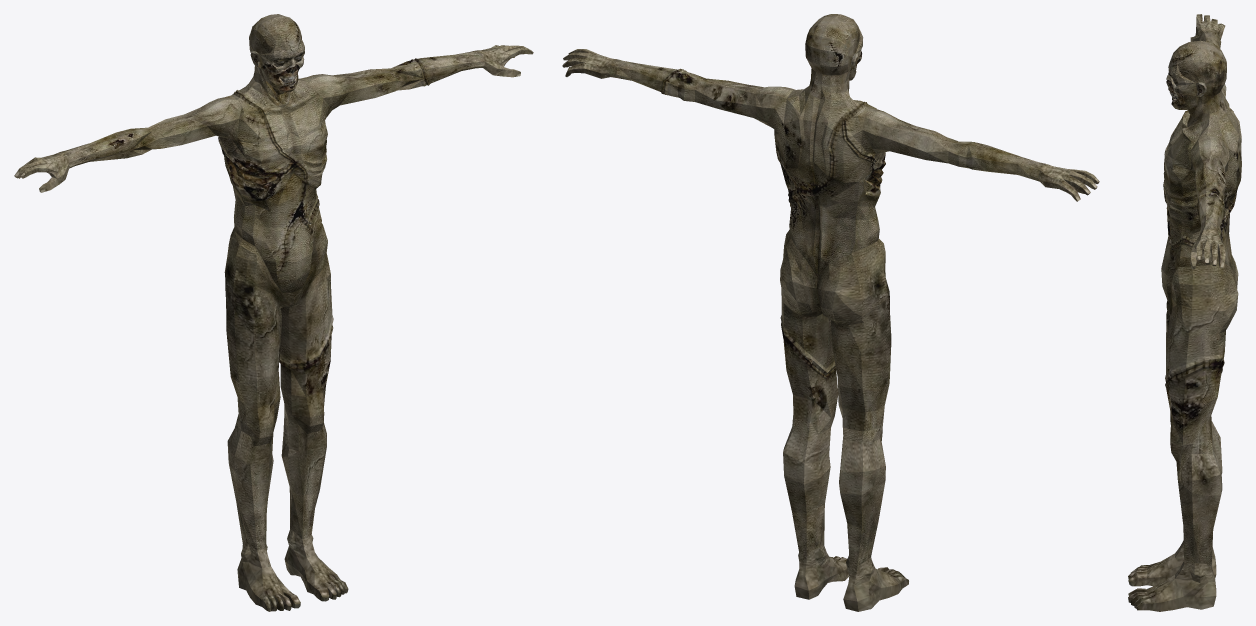
The model's file is Zombie.gltf.
3 views of the same model, side by side, from view 1: azimuth 30°, elevation 25°; view 2: azimuth 150°, elevation 25°; view 3: azimuth 270°, elevation 25° (orthographic). The views are drawn at different scales.
Bounding box in the file's own units: 2.4 × 2.5 × 0.4702.
Materials: 2 (2 with a texture image).
